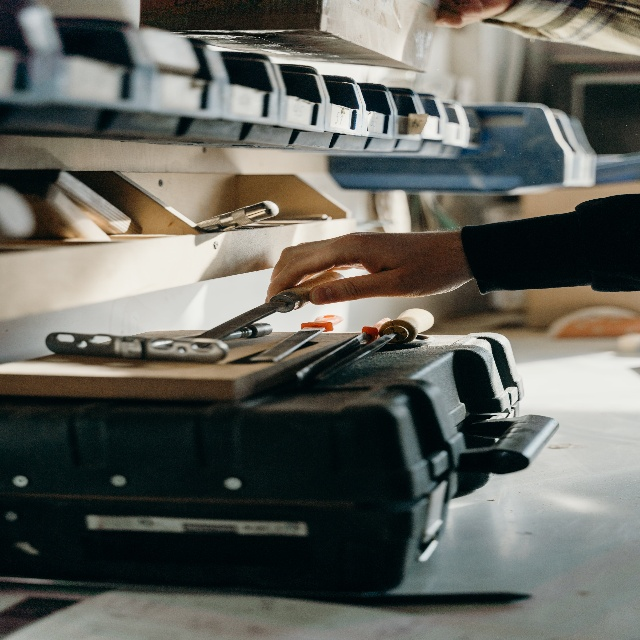Sin_guantes: (263, 234, 476, 308)
